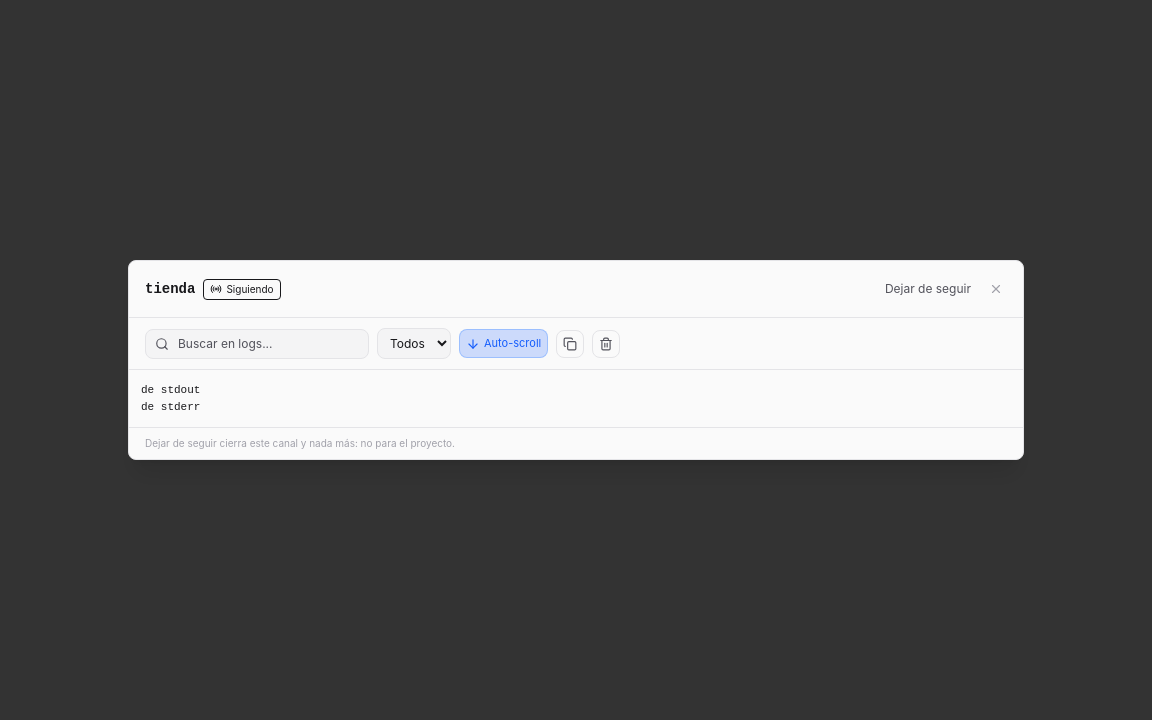
Test: ComposeLogsViewer › filtra por stream, como el visor de contenedores
The width and height of the screenshot is (1152, 720).
Select "stderr" in the dropdown named "filtrar por stream" at (414, 344), box [377,328,451,359]
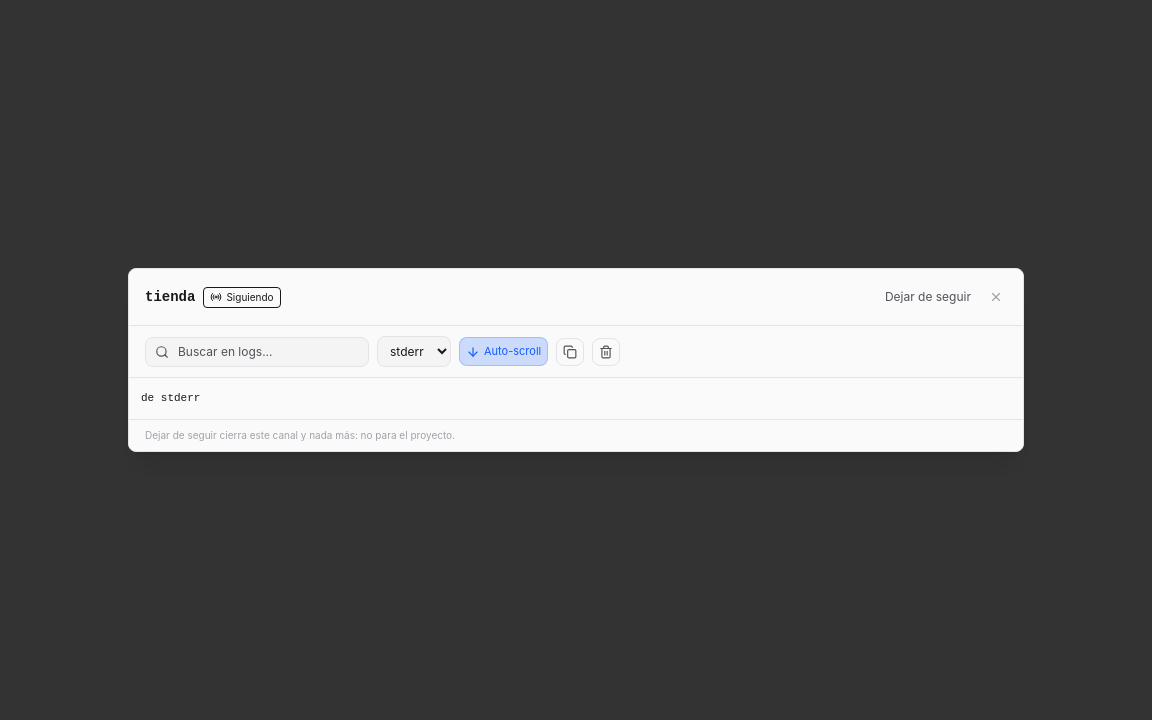
Expected: the text "de stderr" is shown, [141,390,200,407]
Expected: the text "de stdout" is gone
